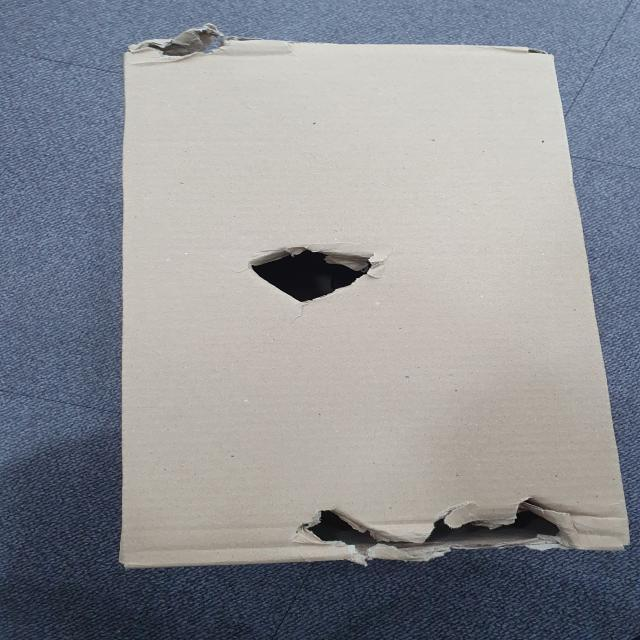hole: (287, 491, 585, 559), (239, 237, 389, 314)
